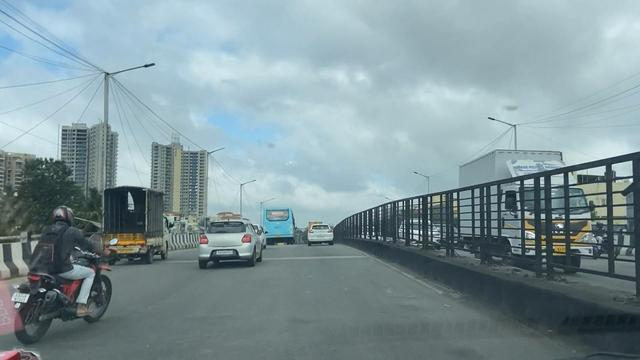HMV: (99, 174, 175, 281), (259, 198, 305, 249)
LMV: (13, 200, 117, 343), (181, 213, 265, 284), (308, 219, 341, 248)
